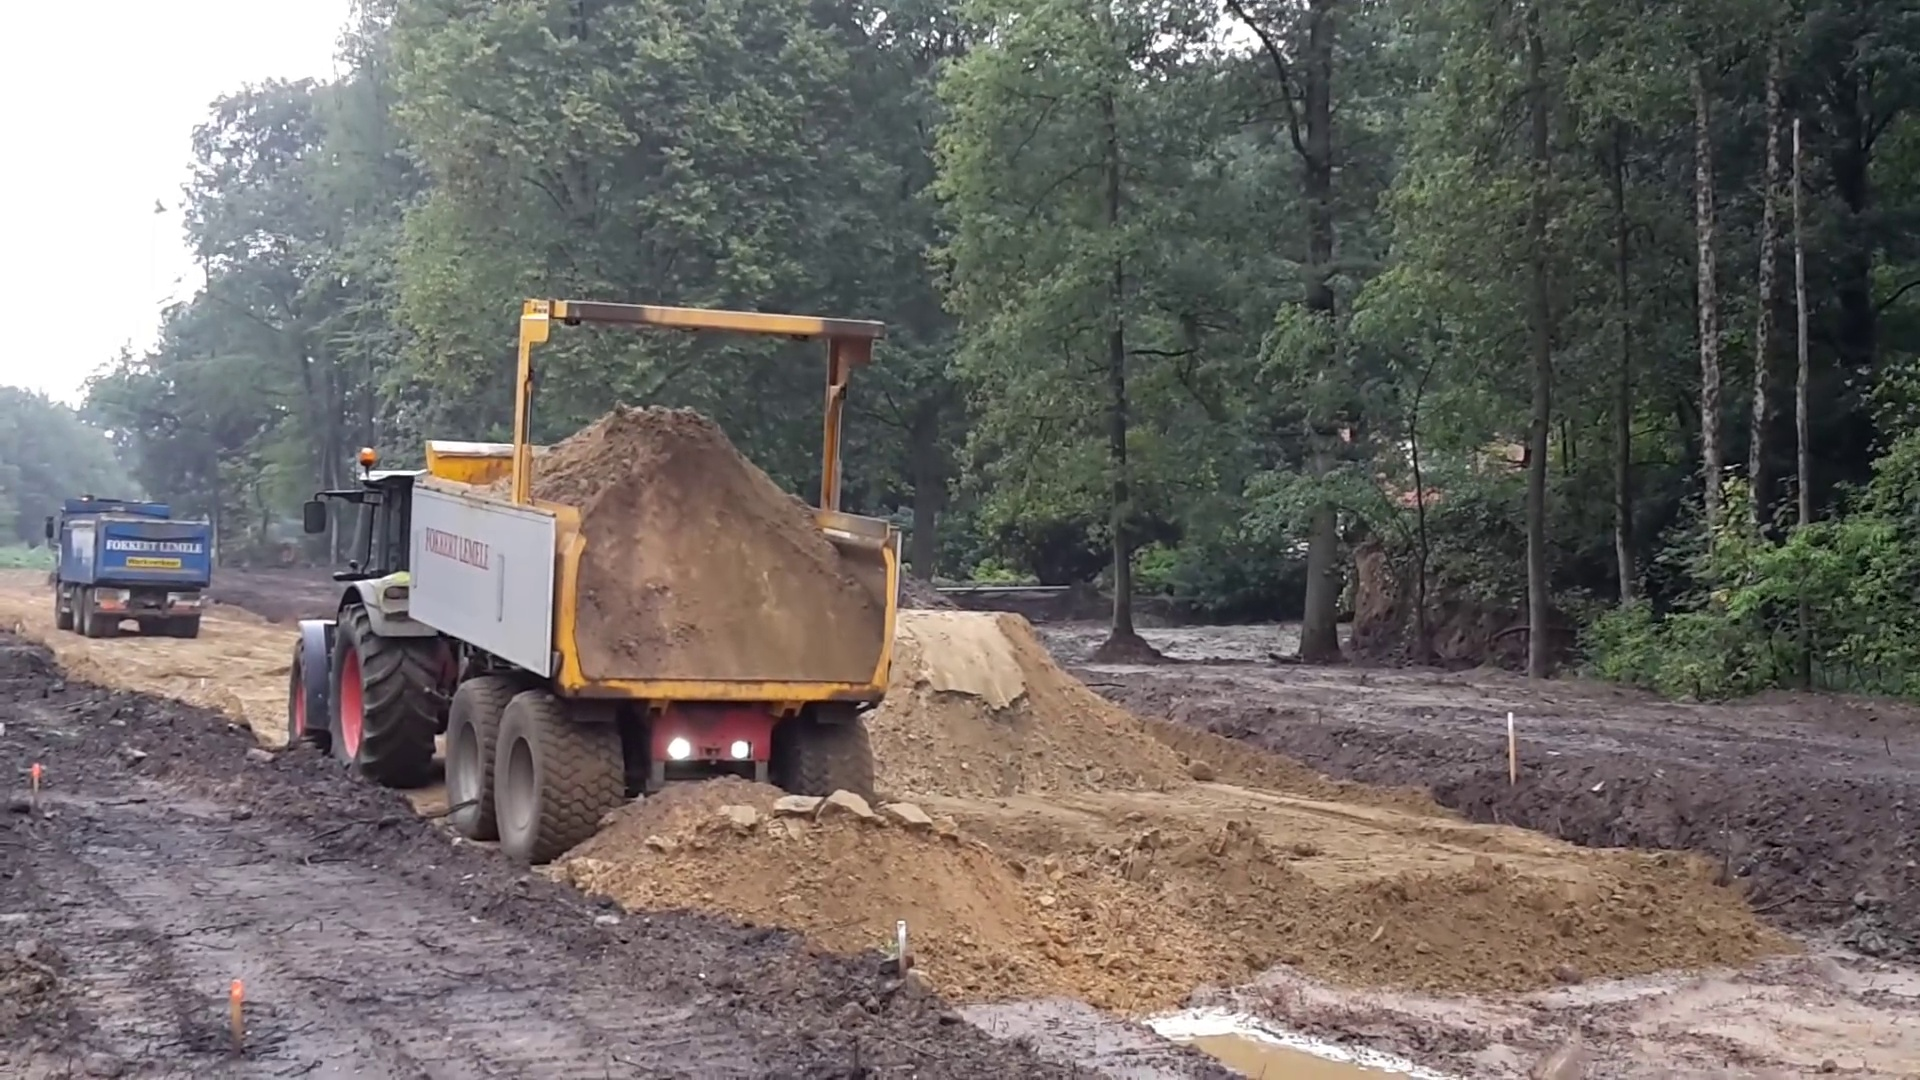truck: (285, 294, 907, 868), (36, 491, 216, 637)
